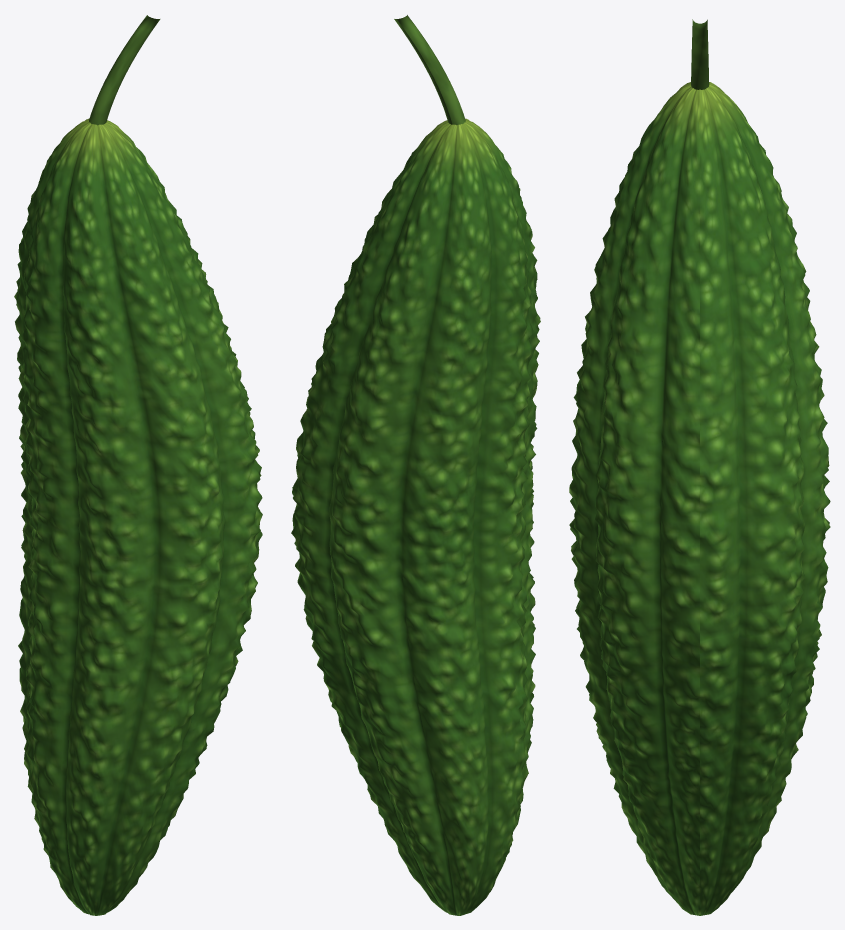
The model's file is margoze.glb.
The picture shows the model from 3 angles, left to right: view 1: azimuth 30°, elevation 25°; view 2: azimuth 150°, elevation 25°; view 3: azimuth 270°, elevation 25°; orthographic projection. The views are drawn at different scales.
Parts seen in each view (by area): view 1: moitie_A_peau, entier_peau, moitie_B_peau, entier_extra0; view 2: moitie_B_peau, entier_peau, moitie_A_peau, entier_extra0; view 3: entier_peau, moitie_B_peau, moitie_A_peau, entier_extra0.
Part boxes in pixels (x1,y1,x2,y2): moitie_A_peau: (28,121,262,915); entier_peau: (14,118,262,915); moitie_B_peau: (15,118,166,888); entier_extra0: (89,15,160,125); moitie_B_peau: (291,120,526,915); entier_peau: (292,120,540,915); moitie_A_peau: (446,118,540,910); entier_extra0: (394,15,465,125); entier_peau: (569,82,830,915); moitie_B_peau: (700,82,830,915); moitie_A_peau: (570,82,699,914); entier_extra0: (691,19,709,89).
Size of the model in its own units: 0.0583 by 0.2224 by 0.0568.
3 materials, 3 textured.
